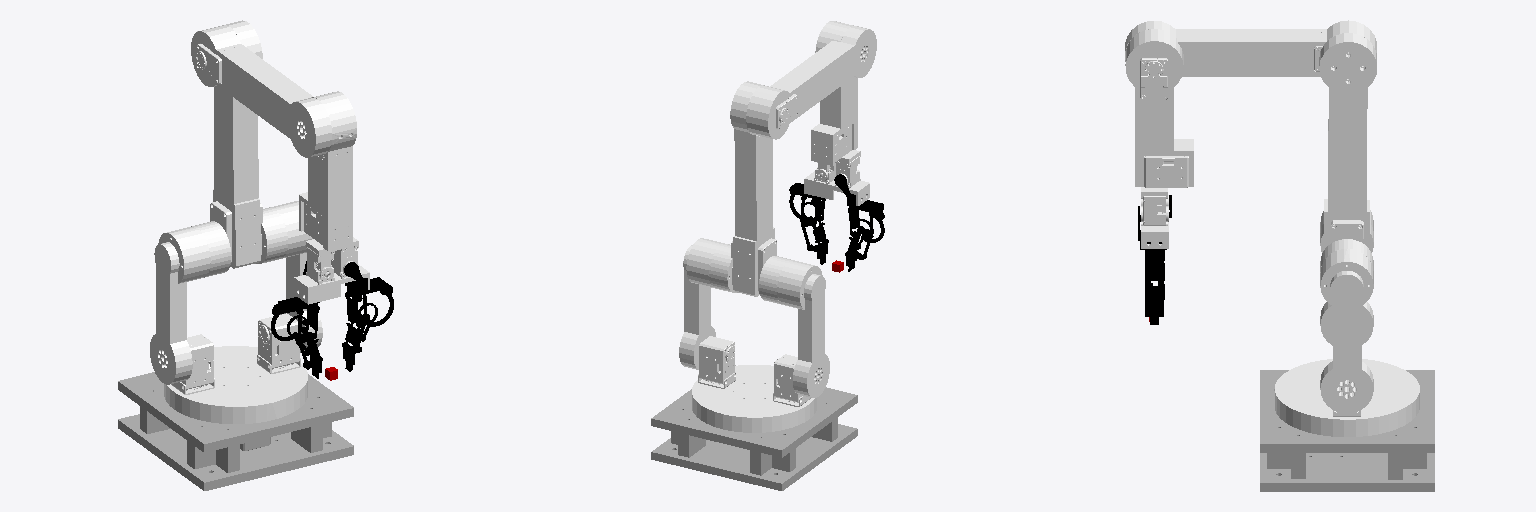
URDF robot description (Go_manipulator):
<?xml version="1.0" encoding="utf-8"?>
<robot name="Go_manipulator">

  <material name="black">
    <color rgba="0.0 0.0 0.0 1.0"/>
  </material>
  <material name="blue">
    <color rgba="0.0 0.0 0.8 1.0"/>
  </material>
  <material name="brown">
    <color rgba="0.8706 0.8118 0.7647 1.0"/>
  </material>
  <material name="dark">
    <color rgba="0.3 0.3 0.3 1.0"/>
  </material>
  <material name="green">
    <color rgba="0.0 0.8 0.0 1.0"/>
  </material>
  <material name="grey">
    <color rgba="0.5 0.5 0.5 1.0"/>
  </material>
  <material name="light_black">
    <color rgba="0.4 0.4 0.4 1.0"/>
  </material>
  <material name="orange">
    <color rgba="1.0 0.4235 0.0392 1.0"/>
  </material>
  <material name="red">
    <color rgba="0.8 0.0 0.0 1.0"/>
  </material>
  <material name="white">
    <color rgba="1.0 1.0 1.0 1.0"/>
  </material>



  <!-- Base Link -->
  <link name="link0">
    <inertial>
      <origin xyz="-0.0676 -0.0067 0.1811" rpy="0 0 0" />
      <mass value="0.8410" />
      <inertia ixx="0.0026" ixy="2.8e-13" ixz="-4.3e-13" iyy="0.0044" iyz="-5.1e-7" izz="0.0025" />
    </inertial>
    <visual>
      <origin xyz="0 0 0" rpy="0 0 0" />
      <geometry>
        <mesh filename="package://Go_manipulator_description/meshes/base_link.STL" />
      </geometry>
      <material name="">
        <color rgba="0.75 0.75 0.75 1" />
      </material>
    </visual>
    <collision>
      <origin xyz="0 0 0" rpy="0 0 0" />
      <geometry>
        <mesh filename="package://Go_manipulator_description/meshes/base_link.STL" />
      </geometry>
    </collision>
  </link>

  <!-- Link 1 -->
  <link name="link1">
    <inertial>
      <origin xyz="0 0.0180 0.00005" rpy="0 0 0" />
      <mass value="0.4427" />
      <inertia ixx="0.0006" ixy="8.3e-21" ixz="-1.2e-13" iyy="0.0013" iyz="-6.98e-7" izz="0.0009" />
    </inertial>
    <visual>
      <origin xyz="0 0 0" rpy="0 0 0" />
      <geometry>
        <mesh filename="package://Go_manipulator_description/meshes/link1.STL" />
      </geometry>
      <material name="white"/>
    </visual>
    <collision>
      <origin xyz="0 0 0" rpy="0 0 0" />
      <geometry>
        <mesh filename="package://Go_manipulator_description/meshes/link1.STL" />
      </geometry>
    </collision>
  </link>

  <!-- Joint 1 -->
  <joint name="joint1" type="revolute">
    <origin xyz="-0.0676 -0.18 0.0207" rpy="1.5708 0 0" />
    <parent link="link0" />
    <child link="link1" />
    <axis xyz="0 1 0" />
    <limit lower="-3.14159" upper="3.14159" effort="1" velocity="1.0" />
  </joint>

  <!-- Link 2 -->
  <link name="link2">
    <inertial>
      <origin xyz="0 0.0253 0.0751" rpy="0 0 0" />
      <mass value="0.4222" />
      <inertia ixx="0.0010" ixy="-4.91e-15" ixz="1.65e-15" iyy="0.0027" iyz="-0.00027" izz="0.0020" />
    </inertial>
    <visual>
      <origin xyz="0 0 0" rpy="0 0 0" />
      <geometry>
        <mesh filename="package://Go_manipulator_description/meshes/link2.STL" />
      </geometry>
      <material name="white"/>
    </visual>
    <collision>
      <origin xyz="0 0 0" rpy="0 0 0" />
      <geometry>
        <mesh filename="package://Go_manipulator_description/meshes/link2.STL" />
      </geometry>
    </collision>
  </link>

  <!-- Joint 2 -->
  <joint name="joint2" type="revolute">
    <origin xyz="0 0.0605 0.00025" rpy="-1.2461 0 0" />
    <parent link="link1" />
    <child link="link2" />
    <axis xyz="1 0 0" />
    <limit lower="-3.14159" upper="3.14159" effort="1" velocity="1.0" />

  </joint>

  <!-- Link 3 -->
  <link name="link3">
    <inertial>
      <origin xyz="0.0010 0.0340 0.0946" rpy="0 0 0" />
      <mass value="0.3496" />
      <inertia ixx="0.0022" ixy="-1.15e-5" ixz="-3.21e-5" iyy="0.0019" iyz="-0.00065" izz="0.00032" />
    </inertial>
    <visual>
      <origin xyz="0 0 0" rpy="0 0 0" />
      <geometry>
        <mesh filename="package://Go_manipulator_description/meshes/link3.STL" />
      </geometry>
      <material name="white"/>
    </visual>
    <collision>
      <origin xyz="0 0 0" rpy="0 0 0" />
      <geometry>
        <mesh filename="package://Go_manipulator_description/meshes/link3.STL" />
      </geometry>
    </collision>
  </link>

  <!-- Joint 3 -->
  <joint name="joint3" type="revolute">
    <origin xyz="0 0.0360 0.1070" rpy="0.0142 0 0" />
    <parent link="link2" />
    <child link="link3" />
    <axis xyz="1 0 0" />
    <limit lower="-3.14159" upper="3.14159" effort="1" velocity="1.0" />

  </joint>

  <!-- Link 4 -->
  <link name="link4">
    <inertial>
      <origin xyz="-0.0225 0.0259 0.0850" rpy="0 0 0" />
      <mass value="0.3143" />
      <inertia ixx="0.0018" ixy="7.0e-6" ixz="2.29e-5" iyy="0.0016" iyz="-0.00046" izz="0.00022" />
    </inertial>
    <visual>
      <origin xyz="0 0 0" rpy="0 0 0" />
      <geometry>
        <mesh filename="package://Go_manipulator_description/meshes/link4.STL" />
      </geometry>
      <material name="white"/>
    </visual>
    <collision>
      <origin xyz="0 0 0" rpy="0 0 0" />
      <geometry>
        <mesh filename="package://Go_manipulator_description/meshes/link4.STL" />
      </geometry>
    </collision>
  </link>

  <!-- Joint 4 -->
  <joint name="joint4" type="revolute">
    <origin xyz="0 0.0738 0.2053" rpy="1.5283 0 0" />
    <parent link="link3" />
    <child link="link4" />
    <axis xyz="1 0 0" />
    <limit lower="-3.14159" upper="3.14159" effort="1" velocity="1.0" />

  </joint>

  <!-- Link 5 -->
  <link name="link5">
    <inertial>
      <origin xyz="-0.0007 -0.0543 -0.0032" rpy="0 0 0" />
      <mass value="0.2388" />
      <inertia ixx="0.0006" ixy="2.93e-6" ixz="5.84e-7" iyy="7.49e-5" iyz="-4.25e-5" izz="0.0006" />
    </inertial>
    <visual>
      <origin xyz="0 0 0" rpy="0 0 0" />
      <geometry>
        <mesh filename="package://Go_manipulator_description/meshes/link5.STL" />
      </geometry>
      <material name="white"/>
    </visual>
    <collision>
      <origin xyz="0 0 0" rpy="0 0 0" />
      <geometry>
        <mesh filename="package://Go_manipulator_description/meshes/link5.STL" />
      </geometry>
    </collision>
  </link>

  <!-- Joint 5 -->
  <joint name="joint5" type="revolute">
    <origin xyz="0 0.0583 0.1913" rpy="-0.2964 0 0" />
    <parent link="link4" />
    <child link="link5" />
    <axis xyz="1 0 0" />
    <limit lower="-3.14159" upper="3.14159" effort="1" velocity="1.0" />

  </joint>

  <!-- Gripper Base -->
  <link name="gripper_base">
    <inertial>
      <origin xyz="0.0001 -0.0283 0" rpy="0 0 0" />
      <mass value="0.0568" />
      <inertia ixx="3.21e-5" ixy="8.06e-8" ixz="-3.23e-7" iyy="2.21e-5" iyz="-6.81e-18" izz="1.67e-5" />
    </inertial>
    <visual>
      <origin xyz="0 0 0" rpy="0 0 0" />
      <geometry>
        <mesh filename="package://Go_manipulator_description/meshes/gripper_base.STL" />
      </geometry>
      <material name="white"/>
    </visual>
    <collision>
      <origin xyz="0 0 0" rpy="0 0 0" />
      <geometry>
        <mesh filename="package://Go_manipulator_description/meshes/gripper_base.STL" />
      </geometry>
    </collision>
  </link>

  <!-- Joint 6 -->
  <joint name="joint6" type="revolute">
    <origin xyz="0.0006 -0.1363 -0.0005" rpy="0 1.5708 0" />
    <parent link="link5" />
    <child link="gripper_base" />
    <axis xyz="0 1 0" />
    <limit lower="-3.14159" upper="3.14159" effort="1" velocity="1.0" />
  </joint>

  <!-- Gripper Finger 1 -->
  <link name="gripper_finger1">
    <inertial>
      <origin xyz="0.0518 -0.0832 -0.0127" rpy="0 0 0" />
      <mass value="0.0356" />
      <inertia ixx="4.53e-5" ixy="-4.95e-7" ixz="-2.13e-7" iyy="2.41e-5" iyz="-8.24e-6" izz="2.56e-5" />
    </inertial>
    <visual>
      <origin xyz="0 0 0" rpy="0 0 0" />
      <geometry>
        <mesh filename="package://Go_manipulator_description/meshes/gripper_finger1.STL" />
      </geometry>
      <material name="black"/>
    </visual>
    <collision>
      <origin xyz="0 0 0" rpy="0 0 0" />
      <geometry>
        <mesh filename="package://Go_manipulator_description/meshes/gripper_finger1.STL" />
      </geometry>
    </collision>
  </link>

  <!-- Joint 7 -->
  <joint name="joint7" type="revolute">
    <origin xyz="-0.0509 0.0241 -0.0024" rpy="0 0 0" />
    <parent link="gripper_base" />
    <child link="gripper_finger1" />
    <axis xyz="1 0 0" />
    <limit lower="-0.2" upper="0.2" effort="100" velocity="0.1" />
  </joint>

  <!-- Gripper Finger 2 -->
  <link name="gripper_finger2">
    <inertial>
      <origin xyz="0.0518 0.0832 0.0141" rpy="0 0 0" />
      <mass value="0.0356" />
      <inertia ixx="4.53e-5" ixy="4.98e-7" ixz="2.22e-7" iyy="2.41e-5" iyz="-8.25e-6" izz="2.56e-5" />
    </inertial>
    <visual>
      <origin xyz="0 0 0" rpy="0 0 0" />
      <geometry>
        <mesh filename="package://Go_manipulator_description/meshes/gripper_finger2.STL" />
      </geometry>
      <material name="black"/>
    </visual>
    <collision>
      <origin xyz="0 0 0" rpy="0 0 0" />
      <geometry>
        <mesh filename="package://Go_manipulator_description/meshes/gripper_finger2.STL" />
      </geometry>
    </collision>
  </link>

  <!-- Joint 8 -->
  <joint name="joint8" type="revolute">
    <origin xyz="0.0509 0.0241 0.0019" rpy="0 0 3.1416" />
    <parent link="gripper_base" />
    <child link="gripper_finger2" />
    <axis xyz="1 0 0" />
    <mimic joint="joint7"/>
    <limit lower="-0.2" upper="0.2" effort="100" velocity="0.1" />
  </joint>


  <joint name="end_effector_joint" type="fixed">
    <parent link="link5"/>
    <child link="end_effector_link"/>
    <origin xyz="0.0 -0.288 0.0 " rpy="0 0 0"/>
  </joint>

  <link name="end_effector_link">
    <visual>
      <origin rpy="0 0 0" xyz="0 0 0"/>
      <geometry>
        <box size="0.01 0.01 0.01"/>
      </geometry>
      <material name="red"/>
    </visual>
  </link>



</robot>

--- Facts derived from the render (not from the file) ---
The picture shows the robot from 3 angles, left to right: view 1: azimuth 30°, elevation 25°; view 2: azimuth 150°, elevation 25°; view 3: azimuth 270°, elevation 25°; orthographic projection.
Robot: Go_manipulator — 10 links, 9 joints (8 revolute, 1 fixed); root link link0; default pose: every joint at zero.
Visible links, largest first — view 1: link0, link1, link2, link4, link3, link5, gripper_base, gripper_finger2, gripper_finger1; view 2: link0, link2, link1, link3, link4, link5, gripper_base, gripper_finger1, gripper_finger2; view 3: link0, link3, link2, link4, link5, link1, gripper_base, gripper_finger2.
Link boxes in pixels (x1=…): link0: x1=118, y1=372, x2=353, y2=490; link1: x1=164, y1=313, x2=307, y2=423; link2: x1=150, y1=201, x2=322, y2=384; link4: x1=191, y1=25, x2=331, y2=157; link3: x1=210, y1=20, x2=262, y2=268; link5: x1=299, y1=91, x2=356, y2=250; gripper_base: x1=294, y1=237, x2=369, y2=304; gripper_finger2: x1=342, y1=262, x2=393, y2=371; gripper_finger1: x1=271, y1=261, x2=322, y2=378; link0: x1=651, y1=365, x2=857, y2=490; link2: x1=679, y1=238, x2=829, y2=397; link1: x1=692, y1=336, x2=816, y2=432; link3: x1=730, y1=81, x2=776, y2=296; link4: x1=746, y1=26, x2=876, y2=139; link5: x1=811, y1=21, x2=857, y2=165; gripper_base: x1=804, y1=150, x2=869, y2=205; gripper_finger1: x1=834, y1=174, x2=884, y2=271; gripper_finger2: x1=789, y1=183, x2=828, y2=264; link0: x1=1260, y1=370, x2=1434, y2=491; link3: x1=1319, y1=33, x2=1376, y2=249; link2: x1=1320, y1=210, x2=1373, y2=412; link4: x1=1125, y1=20, x2=1376, y2=76; link5: x1=1125, y1=29, x2=1193, y2=187; link1: x1=1274, y1=359, x2=1419, y2=436; gripper_base: x1=1141, y1=187, x2=1168, y2=248; gripper_finger2: x1=1138, y1=206, x2=1166, y2=324.
Bounding box of the posed robot: 0.18 × 0.3186 × 0.4761 m (x, y, z).
9 mesh visuals loaded from 9 distinct referenced files (9 binary STL).